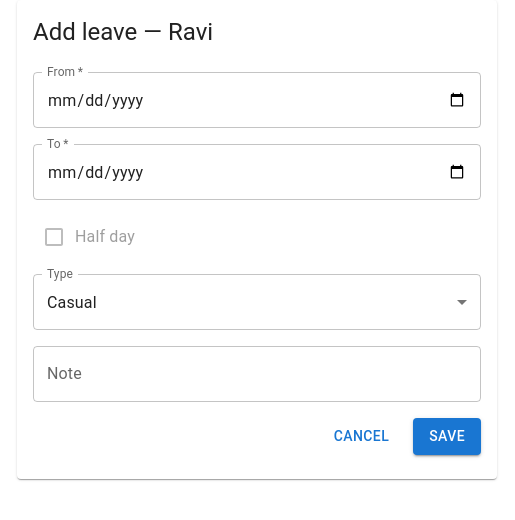
Test case: shows an overlap error on the From field
The width and height of the screenshot is (515, 520).
Type "2026-03-10" into the date field labelled "From *" at (257, 100), box left=33, top=72, right=481, bottom=128
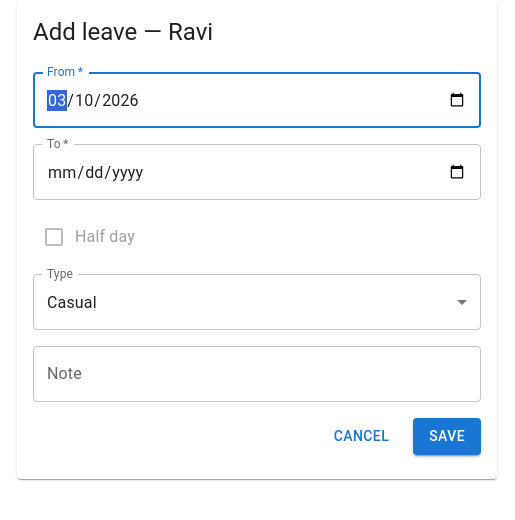
Type "2026-03-10" into the date field labelled "To *" at (257, 172), box left=33, top=144, right=481, bottom=200
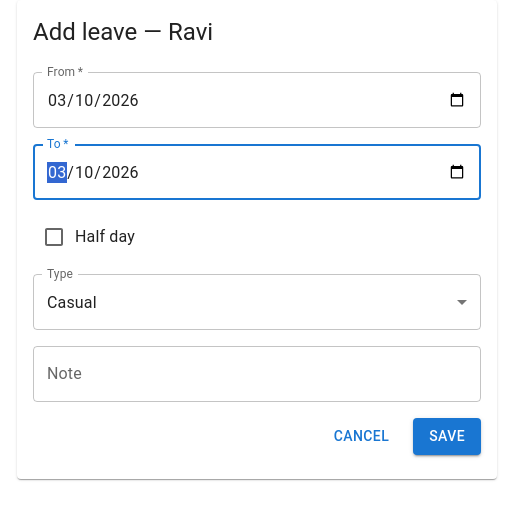
Click the button "Save" at (447, 436), box left=413, top=418, right=481, bottom=454
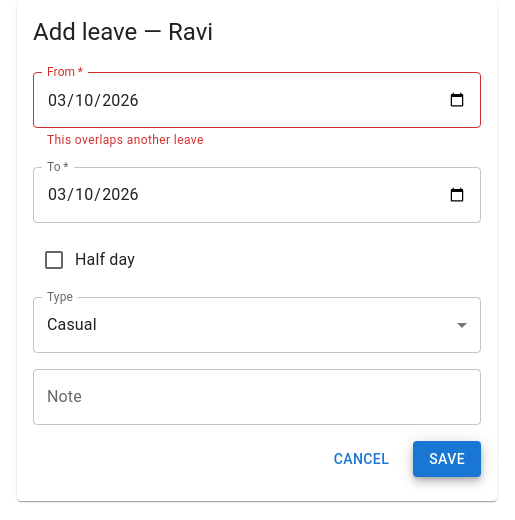
Check: the text "This overlaps another leave" is shown, box left=47, top=133, right=204, bottom=147
